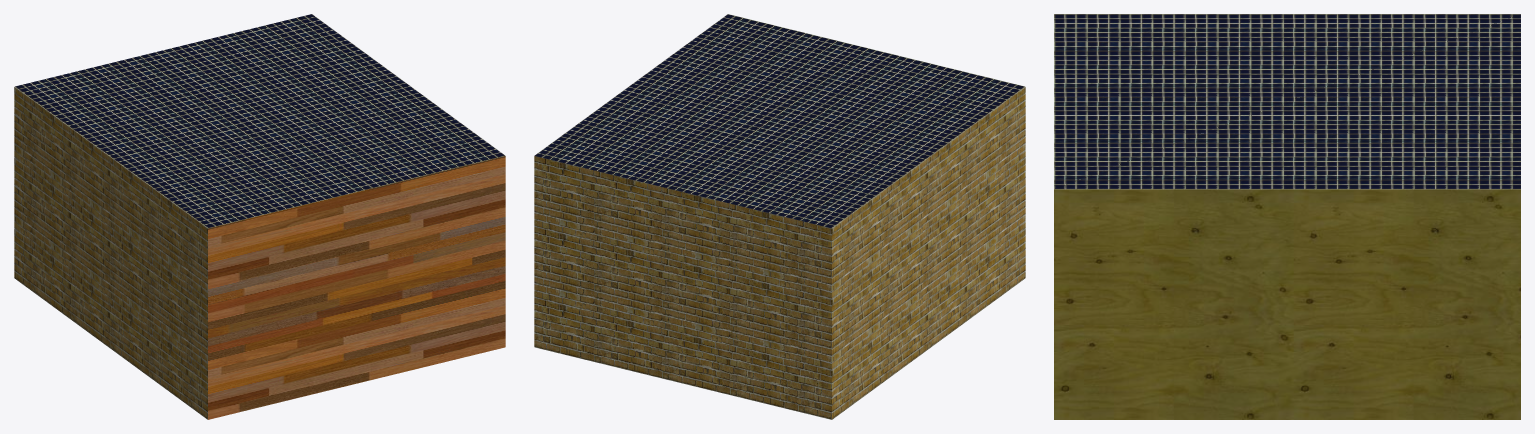
File: TexturObjekt.obj
3 views of the same model, side by side, from view 1: azimuth 30°, elevation 25°; view 2: azimuth 150°, elevation 25°; view 3: azimuth 270°, elevation 25° (orthographic). The views are drawn at different scales.
Parts seen in each view (by area): view 1: TexturObjekt-SKP-Wood_Floor_Dark, TexturObjekt-SKP-Tile_Navy, TexturObjekt-SKP-Brick_Rough_Tan; view 2: TexturObjekt-SKP-Brick_Rough_Tan, TexturObjekt-SKP-Tile_Navy; view 3: TexturObjekt-SKP-Wood_Plywood_Knots, TexturObjekt-SKP-Tile_Navy.
Part boxes in pixels (x1,y1,x2,y2): TexturObjekt-SKP-Wood_Floor_Dark: [208, 156, 505, 419]; TexturObjekt-SKP-Tile_Navy: [14, 14, 505, 228]; TexturObjekt-SKP-Brick_Rough_Tan: [14, 87, 207, 419]; TexturObjekt-SKP-Brick_Rough_Tan: [534, 87, 1025, 419]; TexturObjekt-SKP-Tile_Navy: [534, 14, 1025, 228]; TexturObjekt-SKP-Wood_Plywood_Knots: [1054, 189, 1520, 419]; TexturObjekt-SKP-Tile_Navy: [1054, 14, 1520, 189].
Size of the model in its own units: 2.9 by 1.78 by 3.27.
